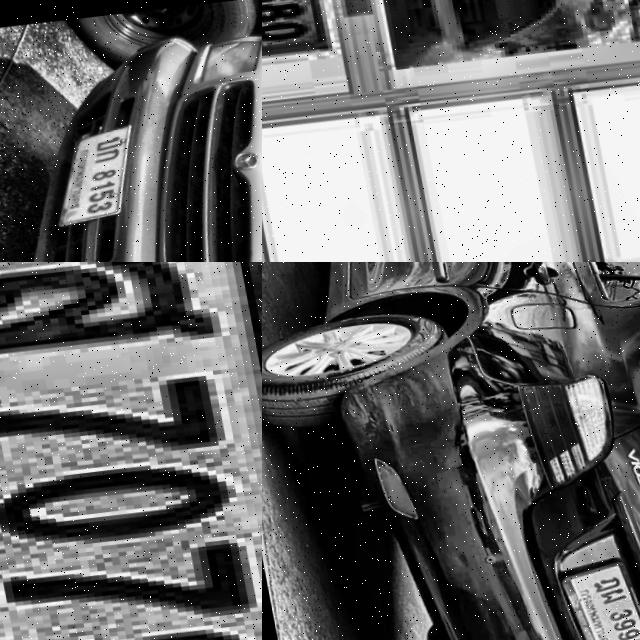license-plate: (0, 262, 262, 640), (26, 116, 153, 237), (546, 549, 640, 640)
